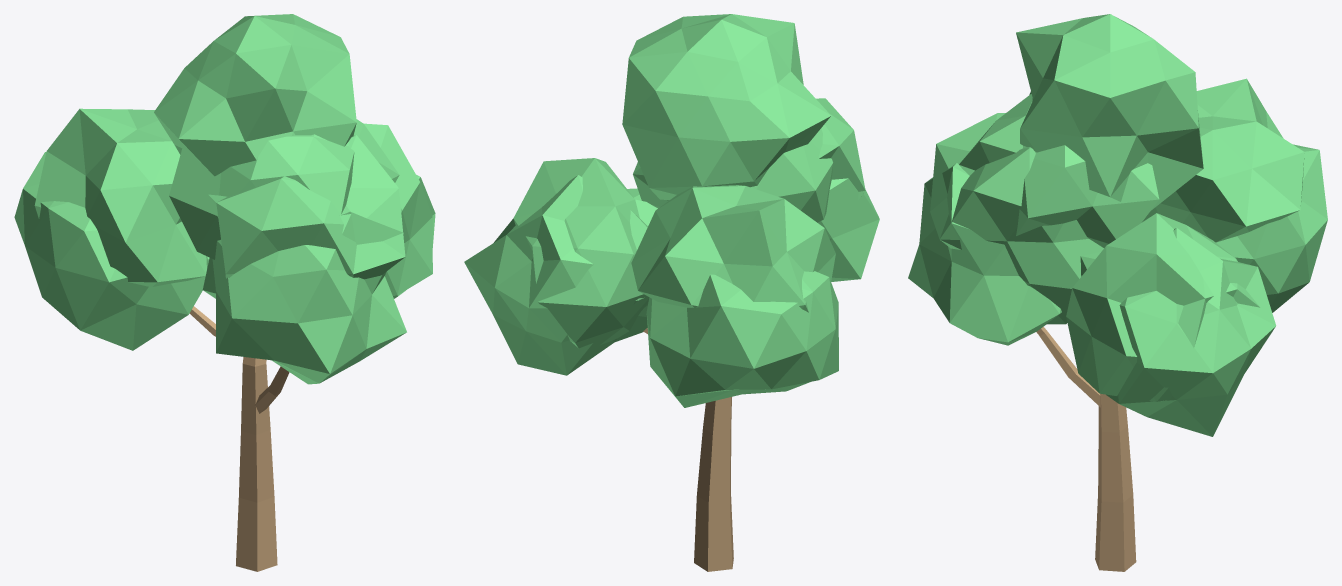
The model's file is Simple_001.fbx.
The picture shows the model from 3 angles, left to right: view 1: azimuth 30°, elevation 25°; view 2: azimuth 150°, elevation 25°; view 3: azimuth 270°, elevation 25°; orthographic projection.
Parts seen in each view (by area): view 1: Simple.001; view 2: Simple.001; view 3: Simple.001.
Boxes of the visible parts, x1=… form: Simple.001: x1=14, y1=14, x2=435, y2=571; Simple.001: x1=464, y1=14, x2=879, y2=571; Simple.001: x1=908, y1=14, x2=1327, y2=571.
Bounding box in the file's own units: 5.86 × 8.39 × 5.83.
